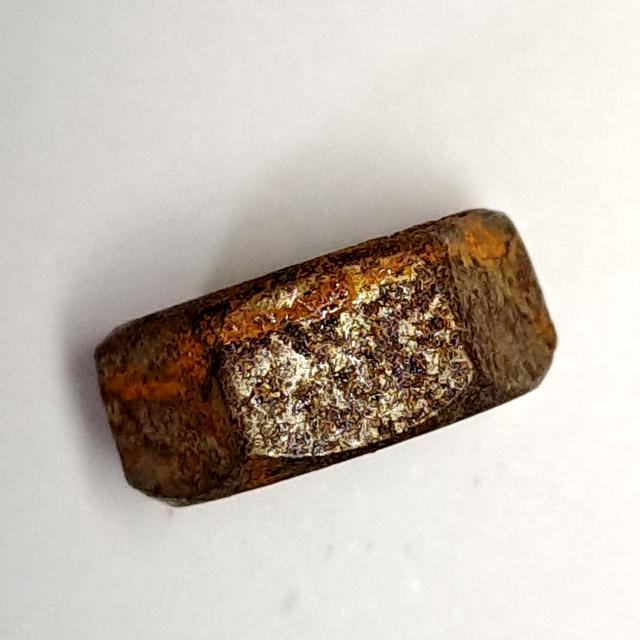Side_Rust: (83, 185, 567, 525)
